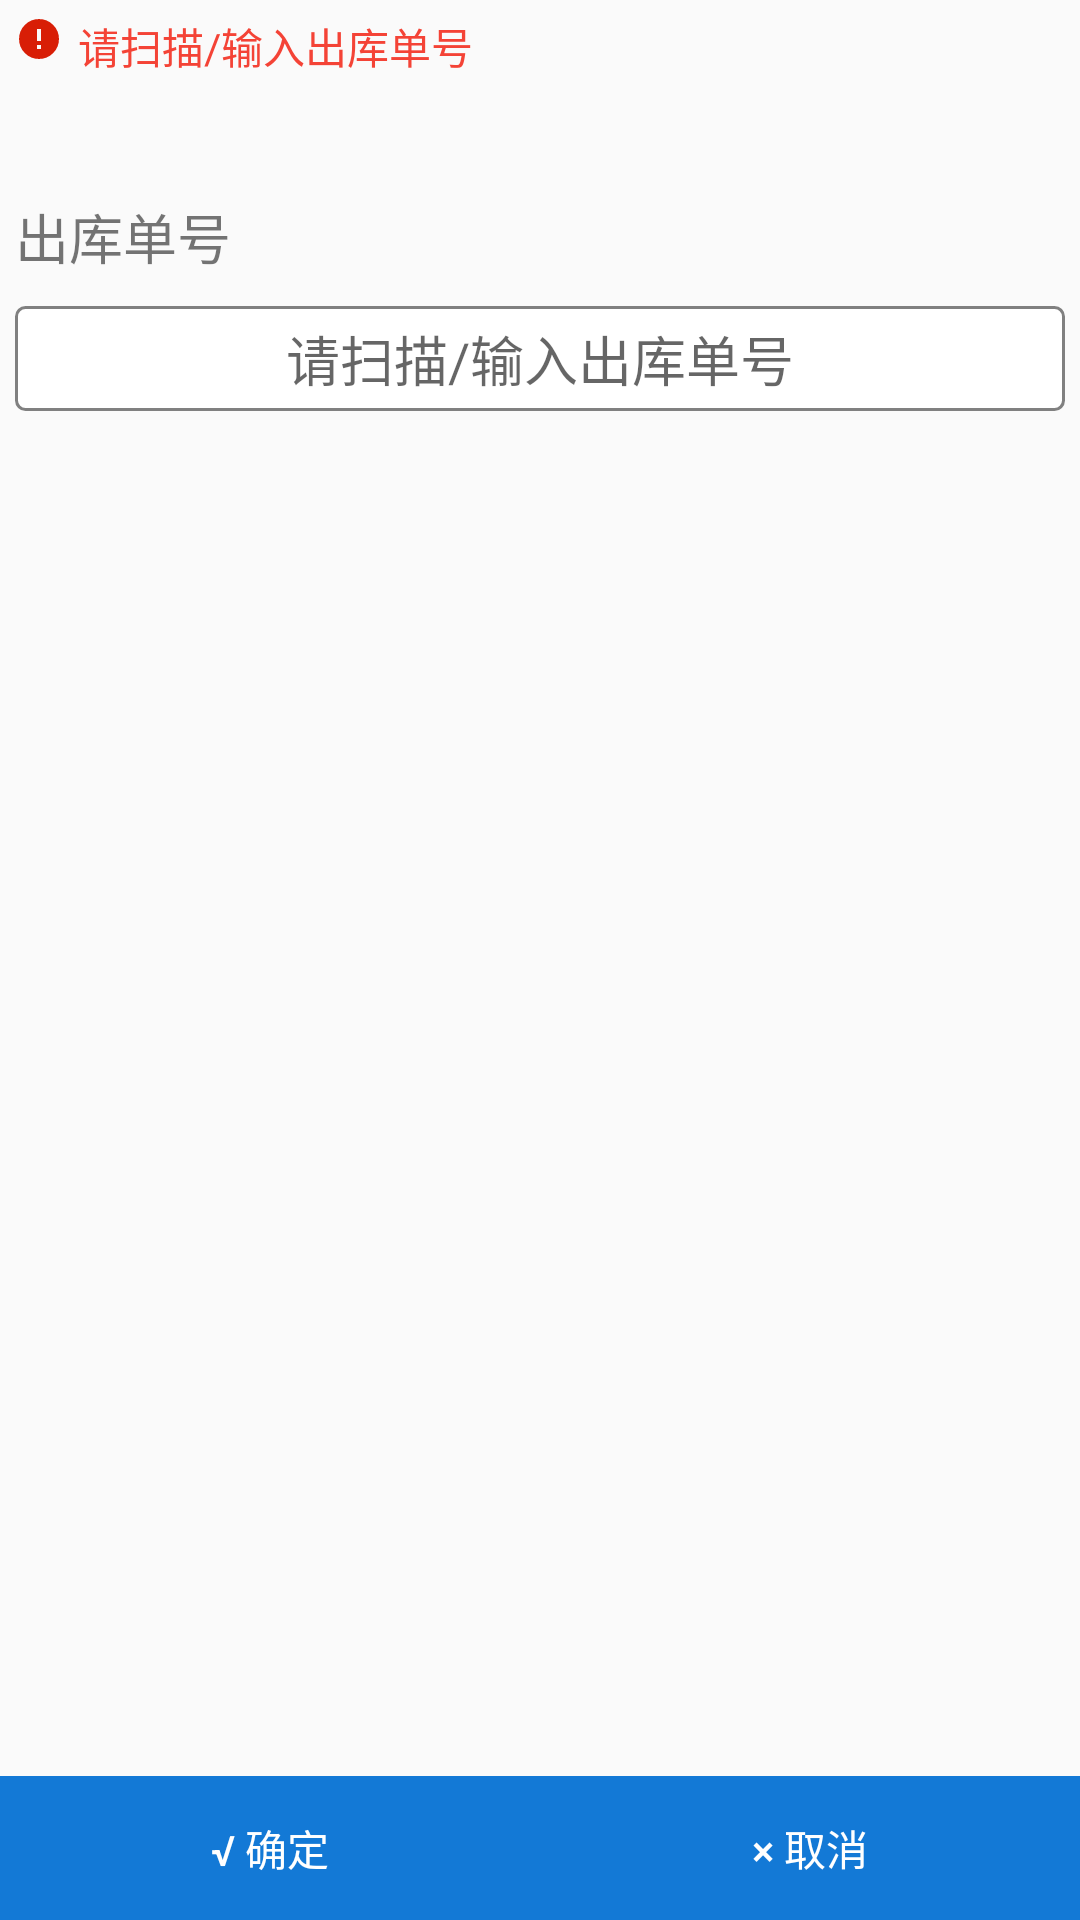

Screen size 1080×1920. Icon name, then its center in pixels as (x,y):
error: (39,39)
